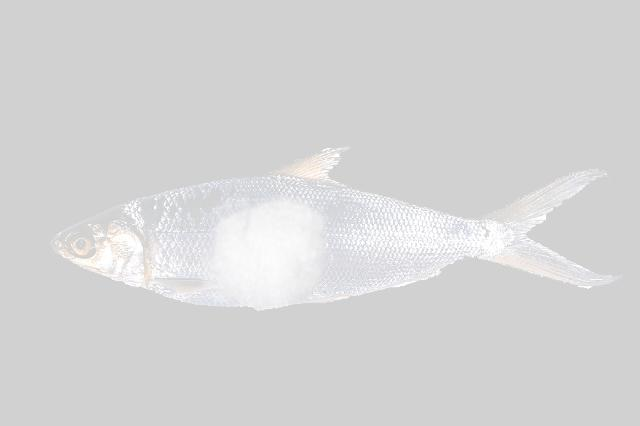Fungal Disease -Saprolegniasis-: (51, 147, 619, 311), (51, 148, 618, 310)
